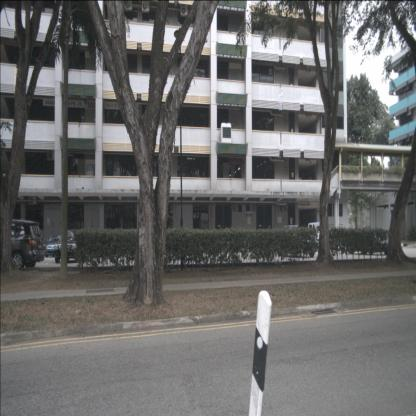vehicle-car: (0, 219, 45, 271), (54, 230, 82, 263), (45, 234, 65, 258)
vehicle-truck: (283, 223, 323, 250)
